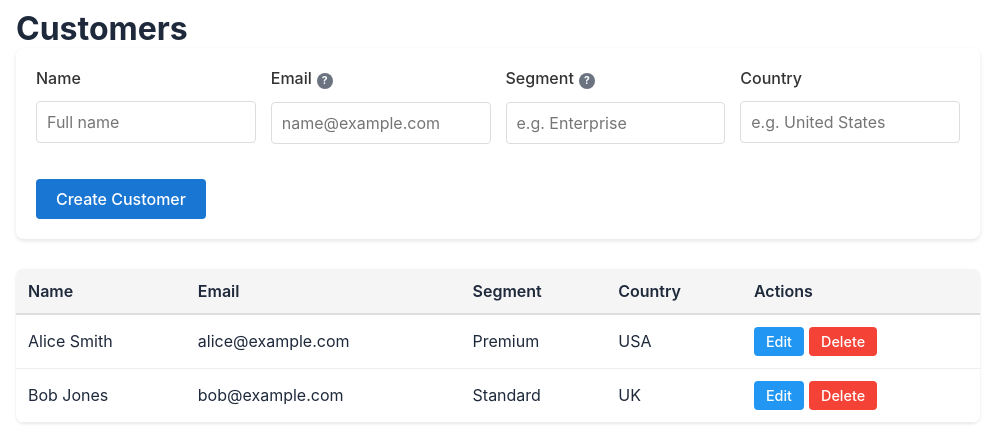
Test case: Customers Component › populates form when editing a customer
The image size is (997, 443).
Expected: the text "Alice Smith" is shown, [16,314,186,368]
Click the button "Edit" in the row of "Alice Smith": x=779, y=341 [754,326,804,356]
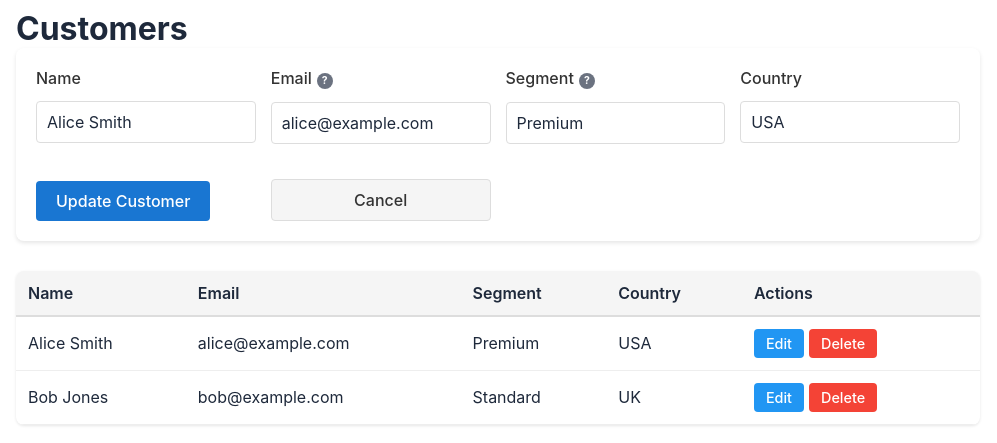
Now the field labelled "Name" holds "Alice Smith", box [36,101,256,143]
Now the field labelled "Email ?" holds "alice@example.com", box [271,102,491,144]
